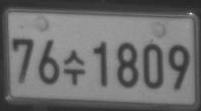0: (142, 43, 164, 90)
1: (90, 41, 112, 87)
6: (38, 39, 60, 85)
7: (12, 37, 34, 84)
8: (116, 42, 139, 87)
9: (167, 43, 191, 90)
수: (62, 48, 85, 85)
